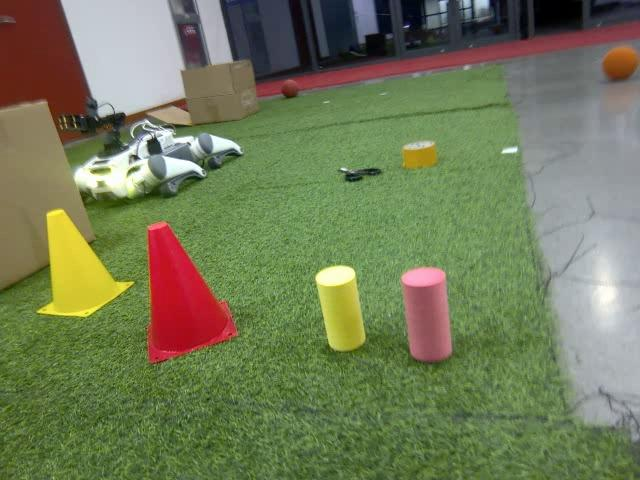orange_ball: (598, 45, 638, 83)
red_ball: (282, 78, 300, 99)
red_barrel: (137, 220, 239, 365)
red_cylinder: (399, 266, 454, 362)
yellow_barrel: (31, 208, 134, 324)
yellow_cylinder: (312, 264, 367, 354)
